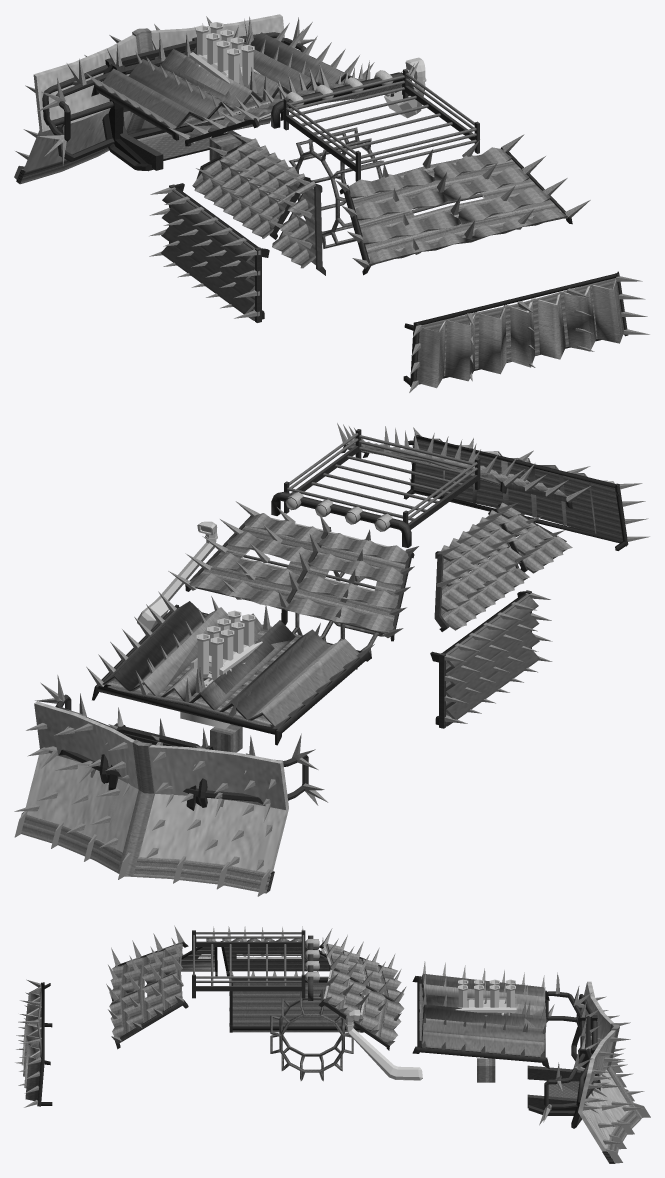
Rendered from LuxuryCarArmor.fbx.
3 renders of one model, top to bottom at view 1: azimuth 30°, elevation 25°; view 2: azimuth 150°, elevation 25°; view 3: azimuth 270°, elevation 25°, orthographic. The views are drawn at different scales.
Parts seen in each view (by area): view 1: trunkreinforcedrear, plow, windowreinforcedrear, hoodreinforcedfront, roofrack, windowfrontreinforcedleft, doorfrontreinforcedleft, windowheavyrear, windowheavyspikedrear, hoodreinforcedfrontscoop, pushbar_medium, windowfrontheavyleft (+19 smaller); view 2: plow, plow_spiked, hoodreinforcedfront, windowreinforcedfront, hoodreinforcedfrontscoop, windowfrontreinforcedleft, trunkheavyspikedrear, roofrack, doorfrontreinforcedleft, trunkheavyrear, windowheavyfront, airscooppiped (+20 smaller); view 3: hoodreinforcedfront, plow, doorfrontheavyleft, windowreinforcedfront, roofrack, windowreinforcedrear, doorfrontheavyspikedleft, hoodreinforcedfrontscoop, windowfrontheavyleft, plow_spiked, chaintires, trunkreinforcedrear (+18 smaller).
Part boxes in pixels (x1=…): trunkreinforcedrear: x1=410, y1=273, x2=628, y2=388; plow: x1=14, y1=14, x2=284, y2=184; windowreinforcedrear: x1=349, y1=147, x2=567, y2=265; hoodreinforcedfront: x1=102, y1=32, x2=350, y2=134; roofrack: x1=283, y1=69, x2=479, y2=181; windowfrontreinforcedleft: x1=192, y1=138, x2=315, y2=268; doorfrontreinforcedleft: x1=161, y1=187, x2=258, y2=320; windowheavyrear: x1=339, y1=147, x2=572, y2=275; windowheavyspikedrear: x1=336, y1=134, x2=590, y2=268; hoodreinforcedfrontscoop: x1=103, y1=32, x2=342, y2=130; pushbar_medium: x1=56, y1=40, x2=245, y2=171; windowfrontheavyleft: x1=196, y1=142, x2=325, y2=275; plow: x1=14, y1=701, x2=288, y2=896; plow_spiked: x1=14, y1=704, x2=285, y2=872; hoodreinforcedfront: x1=98, y1=601, x2=365, y2=732; windowreinforcedfront: x1=189, y1=513, x2=408, y2=633; hoodreinforcedfrontscoop: x1=97, y1=602, x2=361, y2=734; windowfrontreinforcedleft: x1=441, y1=502, x2=572, y2=630; trunkheavyspikedrear: x1=409, y1=427, x2=649, y2=541; roofrack: x1=284, y1=429, x2=480, y2=529; doorfrontreinforcedleft: x1=442, y1=593, x2=539, y2=726; trunkheavyrear: x1=403, y1=439, x2=626, y2=550; windowheavyfront: x1=188, y1=518, x2=414, y2=641; airscooppiped: x1=180, y1=610, x2=262, y2=729; hoodreinforcedfront: x1=418, y1=974, x2=545, y2=1057; plow: x1=543, y1=981, x2=650, y2=1163; doorfrontheavyleft: x1=229, y1=975, x2=363, y2=1032; windowreinforcedfront: x1=326, y1=943, x2=404, y2=1043; roofrack: x1=192, y1=930, x2=305, y2=998; windowreinforcedrear: x1=109, y1=943, x2=182, y2=1037; doorfrontheavyspikedleft: x1=229, y1=971, x2=360, y2=1032; hoodreinforcedfrontscoop: x1=417, y1=973, x2=545, y2=1057; windowfrontheavyleft: x1=181, y1=941, x2=329, y2=976; plow_spiked: x1=582, y1=996, x2=644, y2=1148; chaintires: x1=270, y1=988, x2=353, y2=1081; trunkreinforcedrear: x1=21, y1=982, x2=44, y2=1106.
Size of the model in its own units: 293 by 202 by 698.
